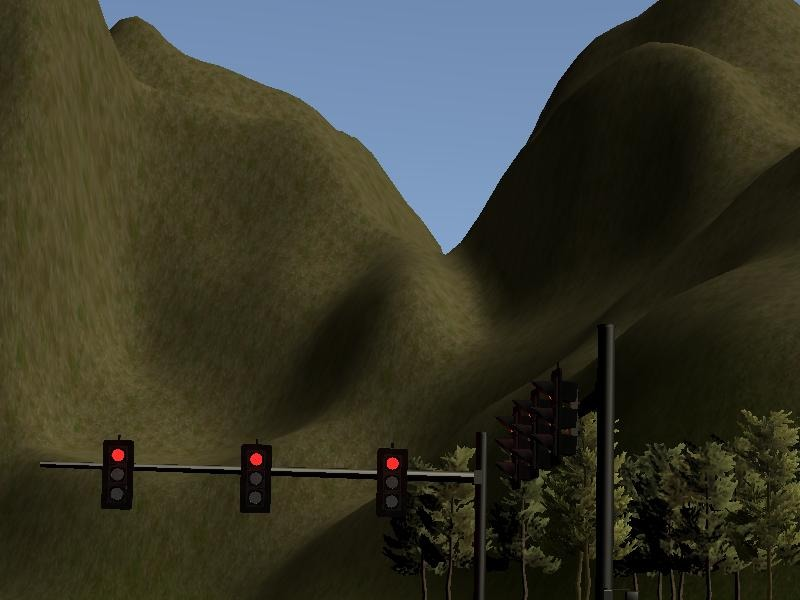red: (102, 440, 135, 512), (377, 448, 410, 520), (240, 442, 273, 514)
